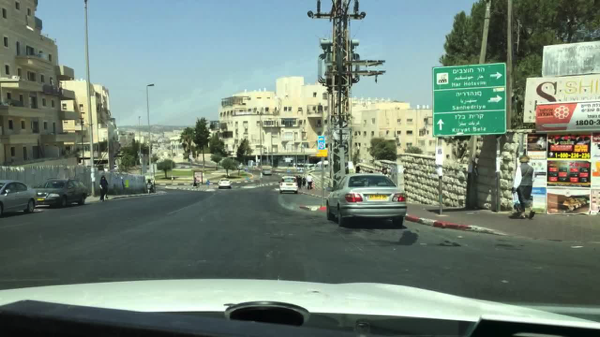bike: (99, 187, 109, 200)
car: (326, 173, 407, 228), (34, 178, 87, 207), (0, 179, 34, 216), (279, 176, 298, 193), (216, 178, 232, 189), (313, 161, 328, 170), (262, 169, 272, 176), (237, 165, 243, 170)
motor: (146, 182, 155, 193)
person: (509, 155, 535, 220), (307, 173, 312, 191), (302, 176, 307, 187), (295, 175, 299, 188), (299, 175, 302, 187)
rider: (99, 175, 109, 201), (146, 179, 154, 191)
traffic sign: (431, 63, 506, 133), (433, 144, 443, 167), (316, 148, 328, 157), (318, 136, 325, 148), (435, 167, 443, 176), (150, 164, 157, 173), (347, 162, 353, 170), (205, 180, 212, 186), (284, 158, 290, 164), (89, 171, 94, 178), (91, 176, 96, 181), (189, 153, 192, 160)
